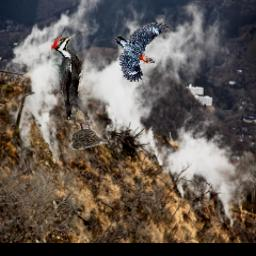Sparrow: (69, 120, 108, 151)
Woodpecker: (51, 32, 90, 120), (114, 23, 171, 83)
